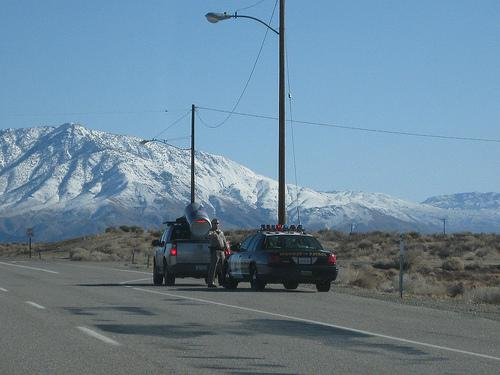truck: (152, 201, 231, 287)
